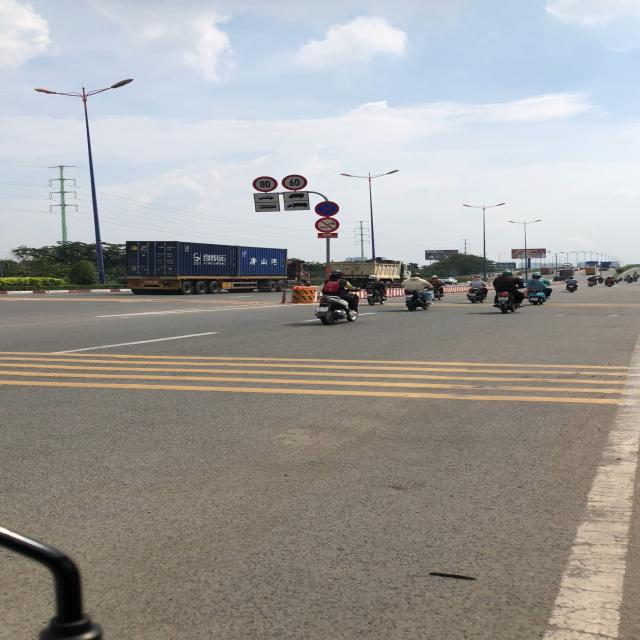Bien bao cam dung xe va do xe: (313, 200, 342, 218)
Bien bao toc do toi da cho phep: (280, 173, 308, 190), (253, 174, 278, 193)
